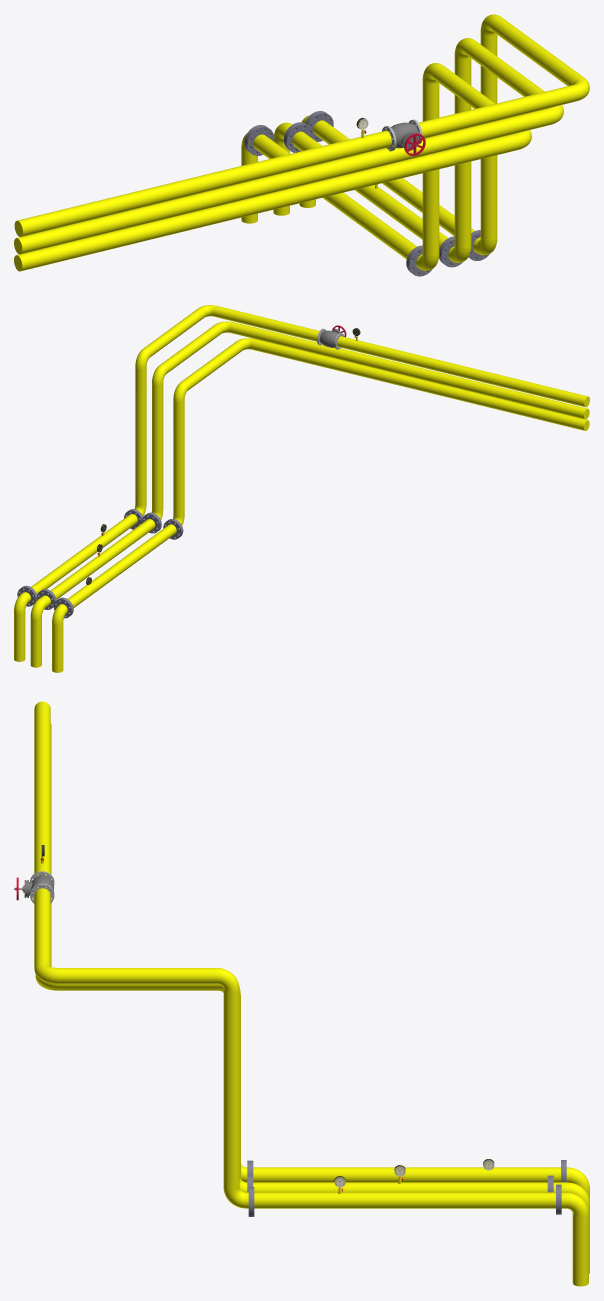
Rendered from PipeY.dae.
3 views of the same model, one above another, from view 1: azimuth 30°, elevation 25°; view 2: azimuth 150°, elevation 25°; view 3: azimuth 270°, elevation 25° (orthographic). The views are drawn at different scales.
Parts seen in each view (by area): view 1: group_14, group_15, group_16, jis_b_2220_jis_b_2220__16xzd14sb6cefvhwe6m68x8qm (×2); view 2: group_14, group_15, group_16; view 3: group_14, group_15, group_16.
Boxes of the visible parts, <box> form: group_14: <box>14,14,589,255</box>; group_15: <box>14,38,563,262</box>; group_16: <box>14,63,531,271</box>; jis_b_2220_jis_b_2220__16xzd14sb6cefvhwe6m68x8qm (×2): <box>246,123,313,155</box>; group_14: <box>14,305,589,661</box>; group_15: <box>30,321,589,667</box>; group_16: <box>52,338,589,672</box>; group_14: <box>34,701,588,1286</box>; group_15: <box>35,723,589,1273</box>; group_16: <box>35,976,589,1201</box>.
Bounding box in the file's own units: 236 × 210 × 135.
Materials: 16 (2 with a texture image).
